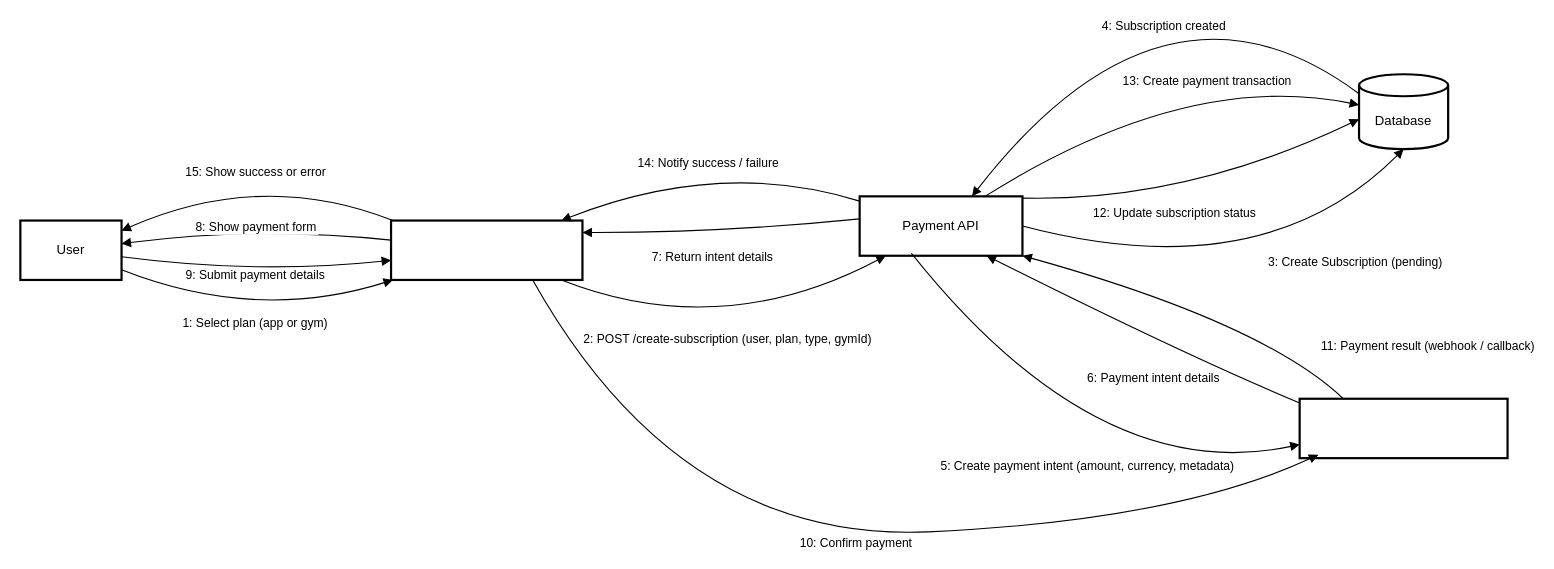
This 1554x569 diagram has some shape labels left out. Here are the shapes that lost their labels. From the top down, the centre of each, then its label:
At point (486, 249): "Payment Screen".
At point (1403, 428): "Payment Gateway".
